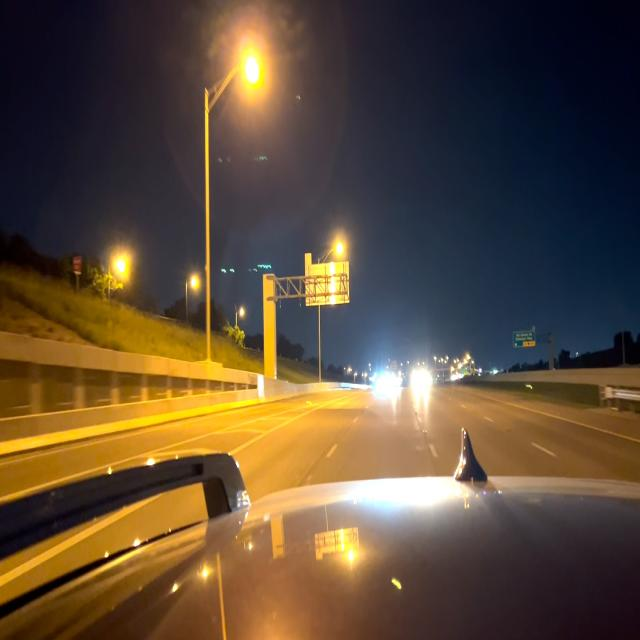back-of-sign: (304, 261, 350, 306)
